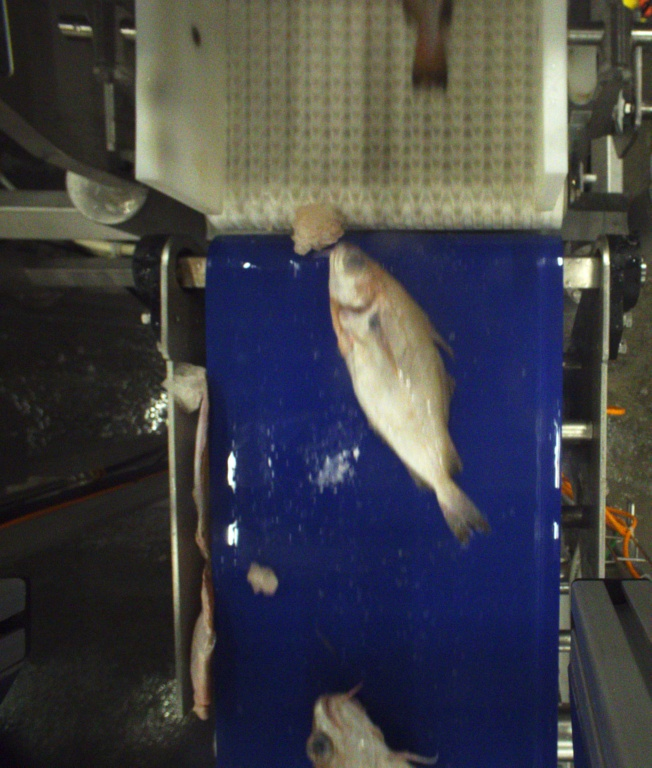BIB: (398, 0, 453, 91)
